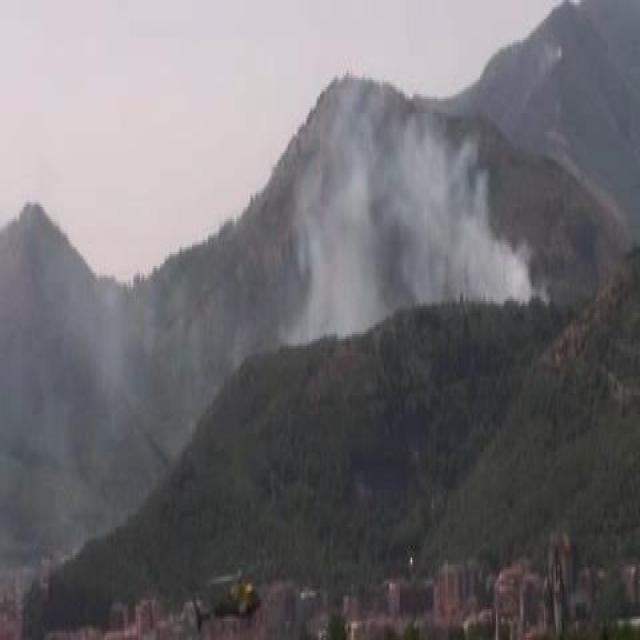Smoke: (318, 97, 531, 301)
